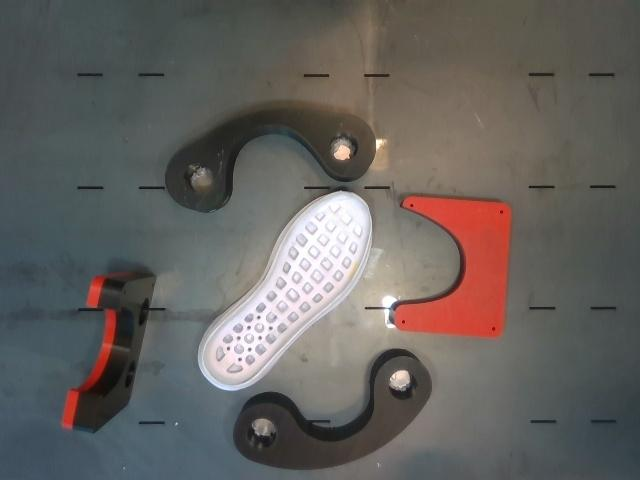shoes: (202, 192, 371, 386)
